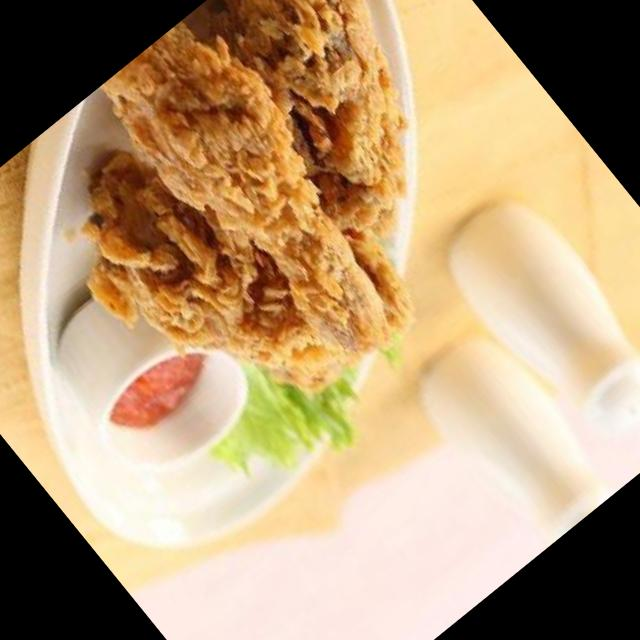Fried Chicken: (80, 0, 415, 394)
